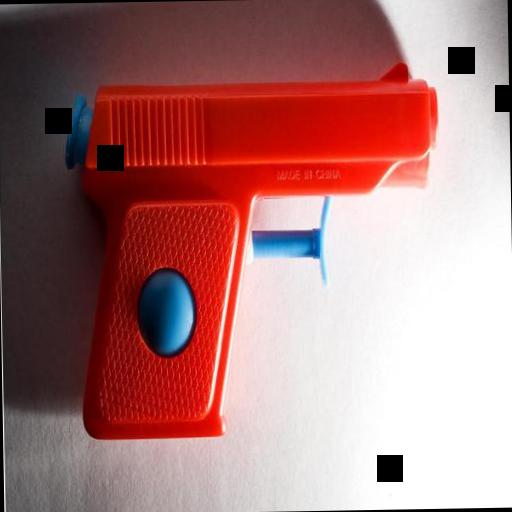Handgun: (56, 60, 444, 444)
